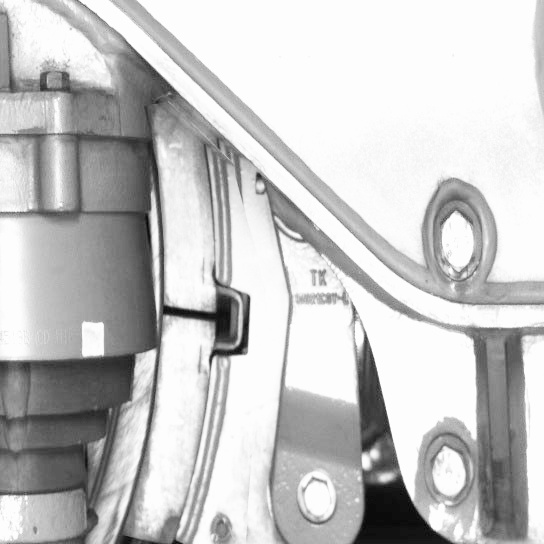ClosedKnifeSwitch: (110, 135, 231, 542)
